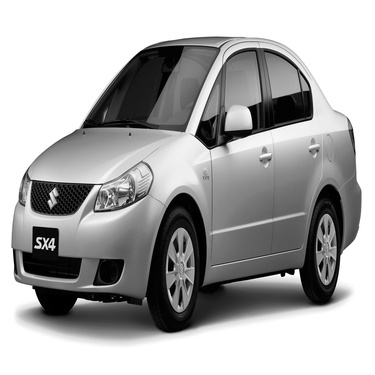car: (9, 26, 368, 342)
